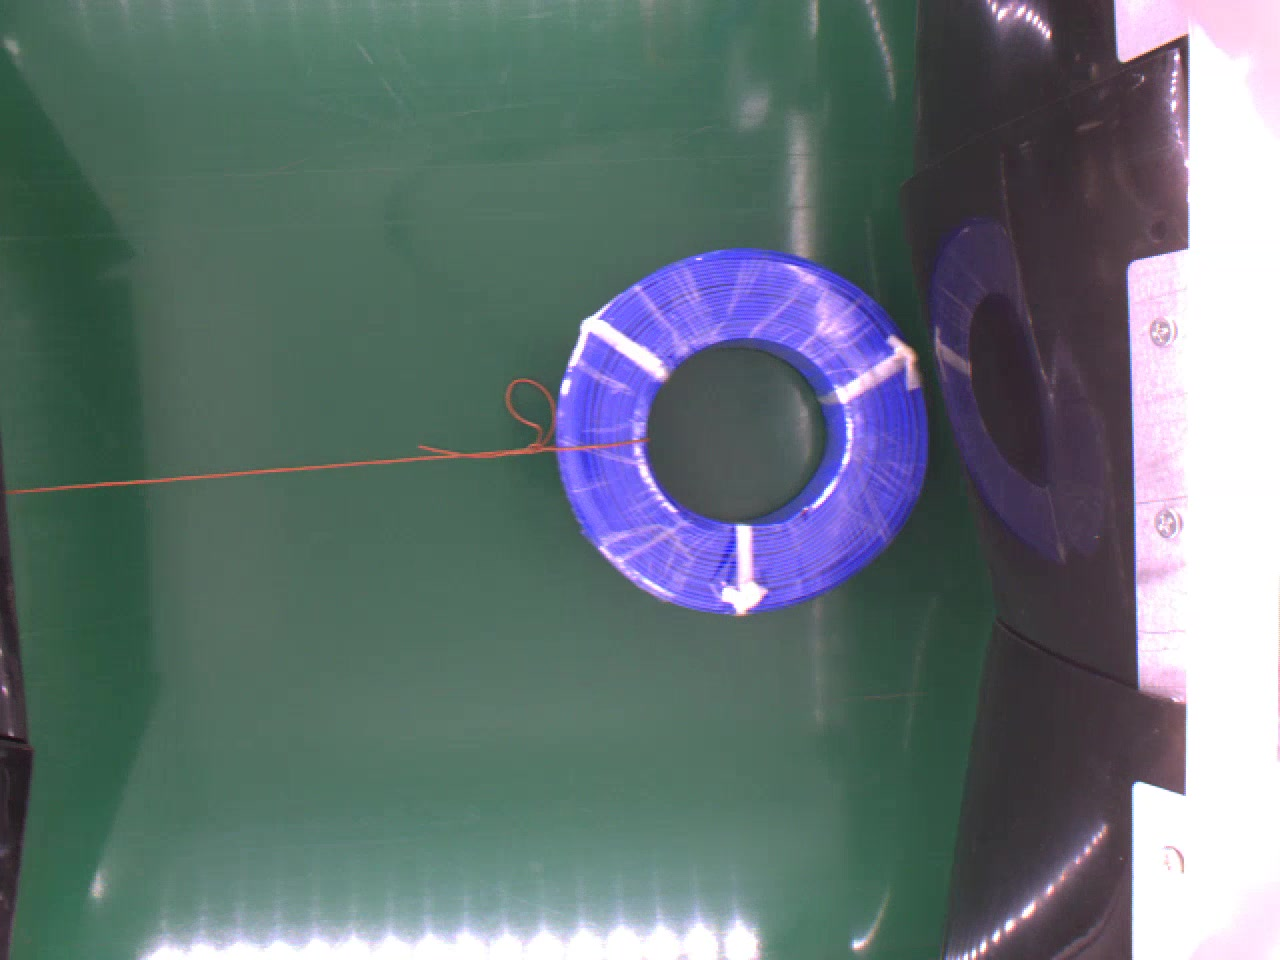blue: (548, 243, 929, 611)
